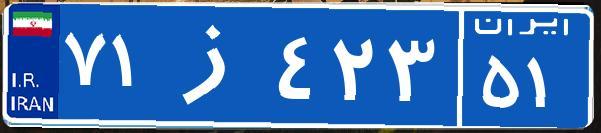1: (110, 28, 158, 105), (525, 38, 570, 115)
2: (330, 28, 385, 110)
3: (385, 28, 445, 110)
4: (273, 28, 330, 110)
5: (475, 38, 525, 113)
7: (57, 26, 110, 107)
ز: (158, 15, 273, 115)
